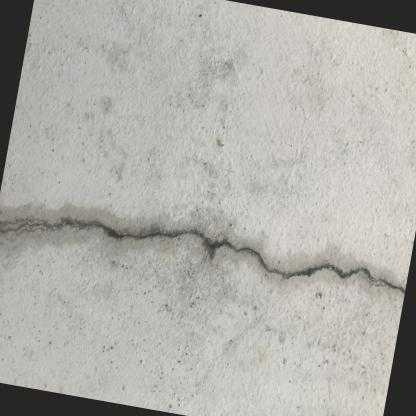crack: (0, 215, 403, 293)
